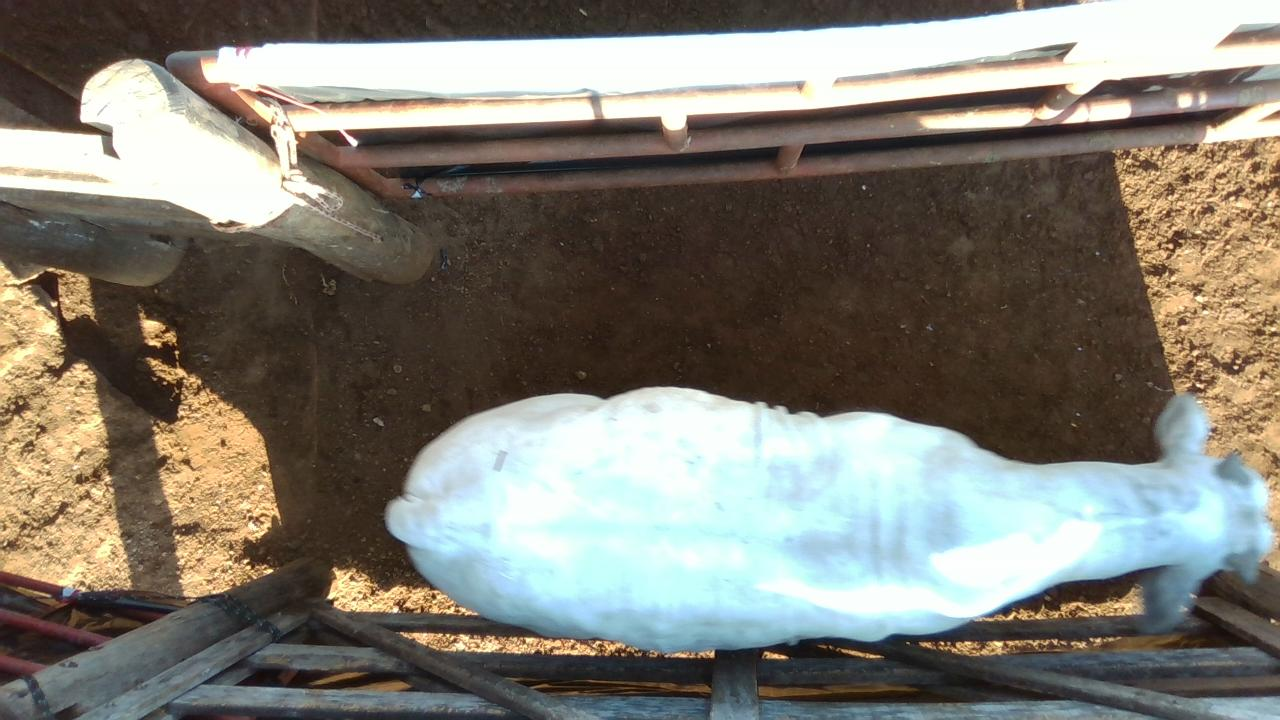cattle: (383, 383, 1273, 654)
